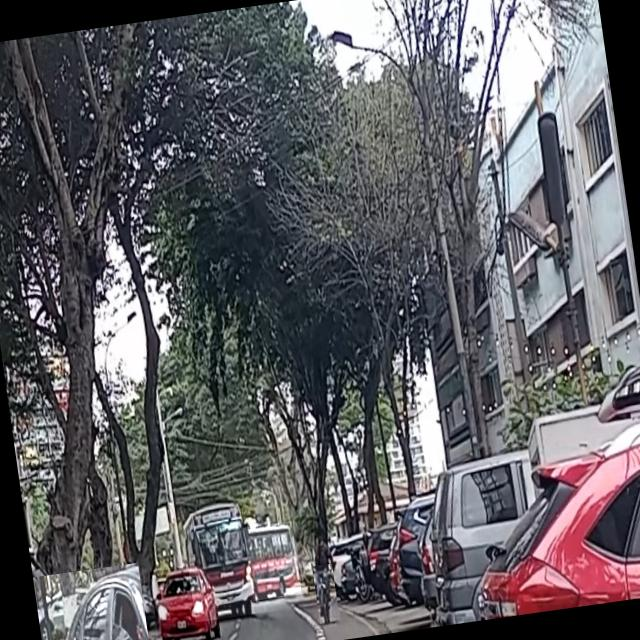bicycle: (312, 564, 340, 624)
bus: (180, 507, 256, 622), (243, 522, 302, 602)
car: (33, 562, 153, 640), (149, 563, 221, 640)
